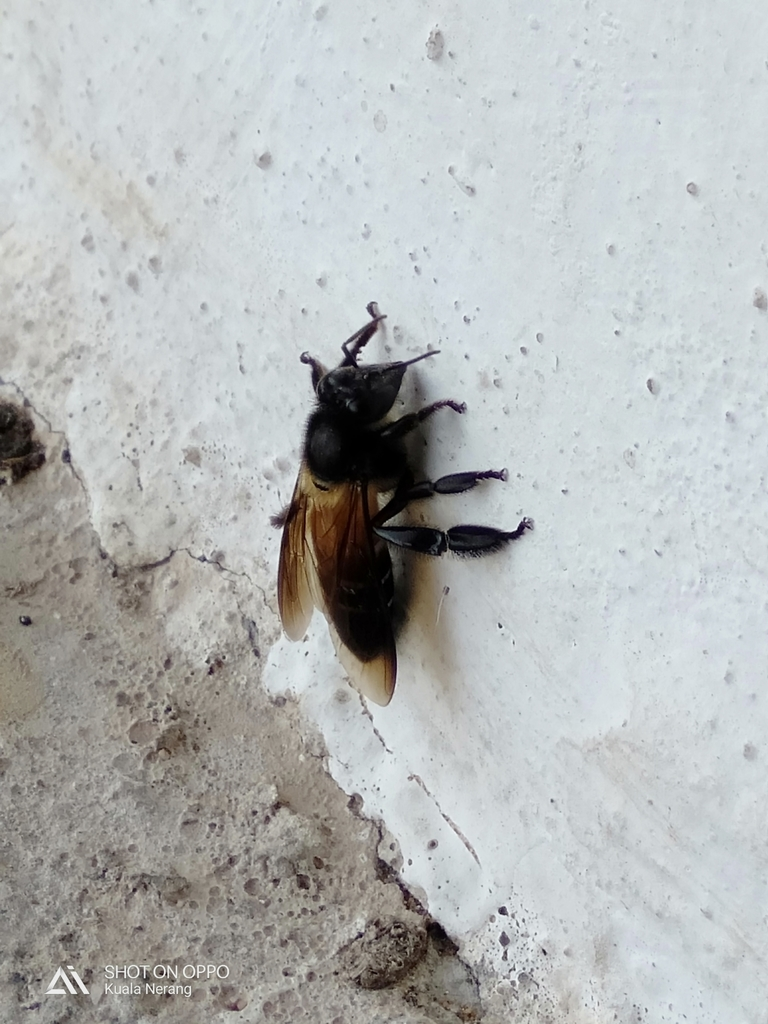not_bumblebee: (274, 299, 535, 710)
